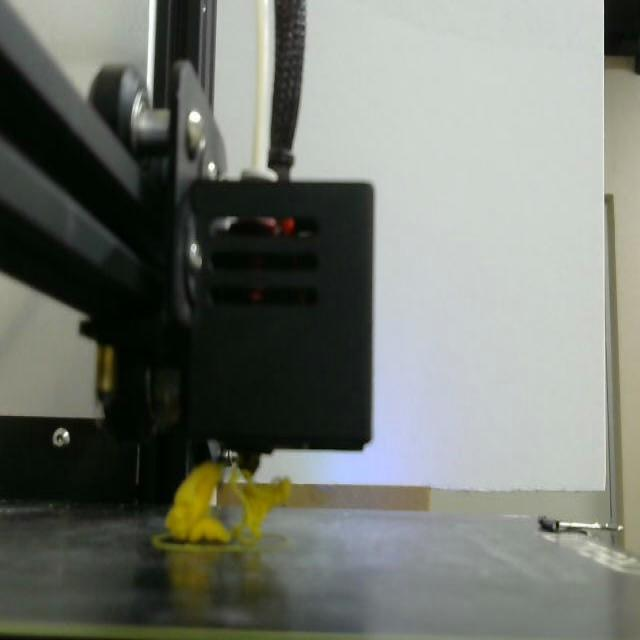spaghetti: (165, 462, 291, 542)
